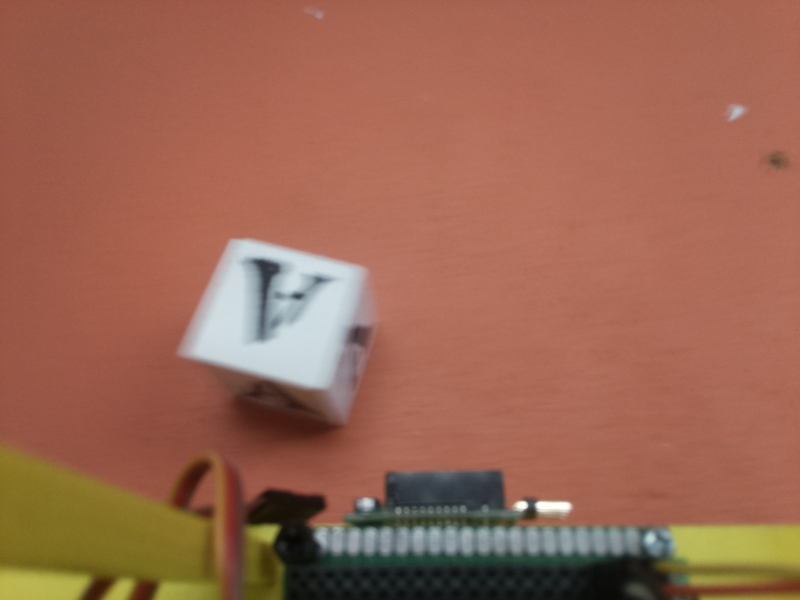blockA: (170, 236, 375, 439)
